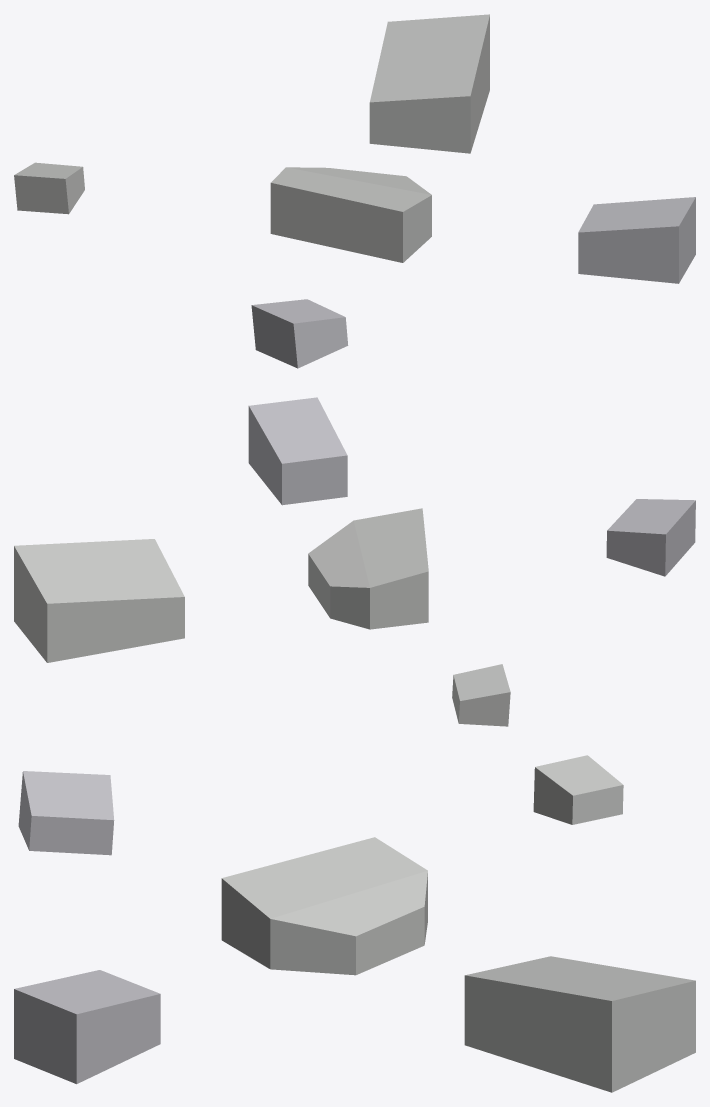
The model's file is Rock_Blocks_s_02.fbx.
The picture shows the model from 3 angles, top to bottom: view 1: azimuth 30°, elevation 25°; view 2: azimuth 150°, elevation 25°; view 3: azimuth 270°, elevation 25°; orthographic projection. The views are drawn at different scales.
Visible parts, largest first — view 1: Rock_Blocks_s_02; view 2: Rock_Blocks_s_02; view 3: Rock_Blocks_s_02.
Boxes of the visible parts, <box> form: Rock_Blocks_s_02: <box>14,14,695,368</box>; Rock_Blocks_s_02: <box>14,397,695,726</box>; Rock_Blocks_s_02: <box>14,755,695,1092</box>.
Bounding box in the file's own units: 55.48 × 8.23 × 55.46.
